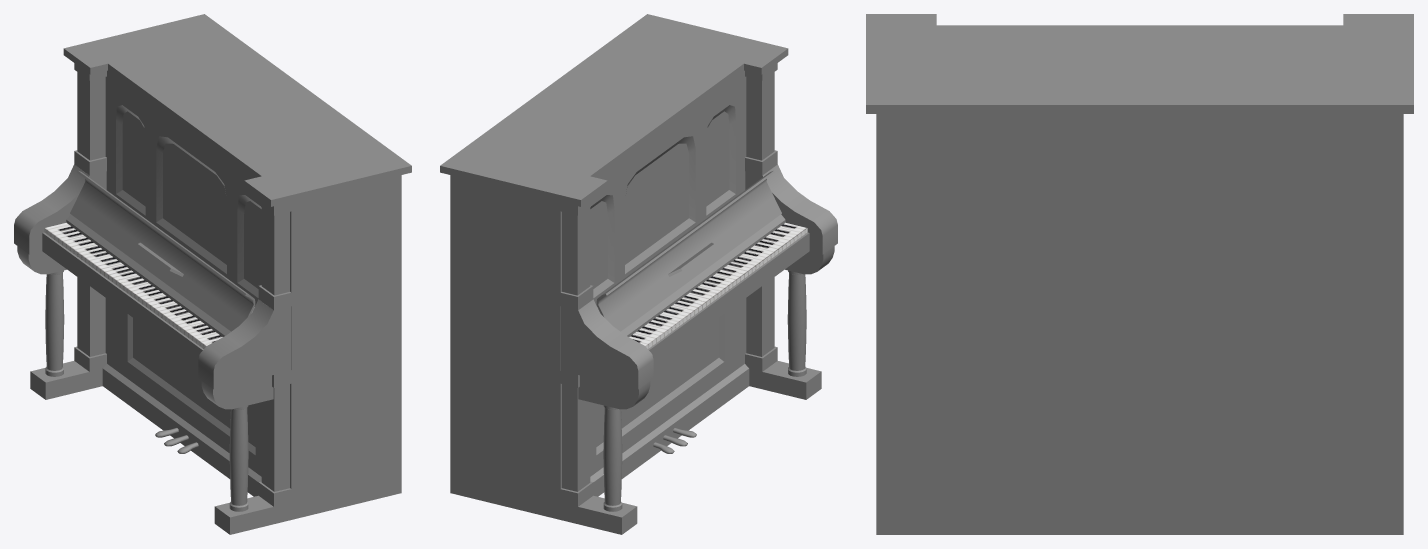
File: PianoPH.FBX
The picture shows the model from 3 angles, left to right: view 1: azimuth 30°, elevation 25°; view 2: azimuth 150°, elevation 25°; view 3: azimuth 270°, elevation 25°; orthographic projection. The views are drawn at different scales.
Visible parts, largest first — view 1: Box001, Piano; view 2: Box001, Piano; view 3: Box001.
Part boxes in pixels (x1,y1,x2,y2): Box001: [14, 14, 411, 534]; Piano: [44, 222, 222, 348]; Box001: [440, 14, 837, 534]; Piano: [629, 222, 807, 348]; Box001: [866, 14, 1413, 534].
Bounding box in the file's own units: 35.26 × 56.94 × 65.12.
